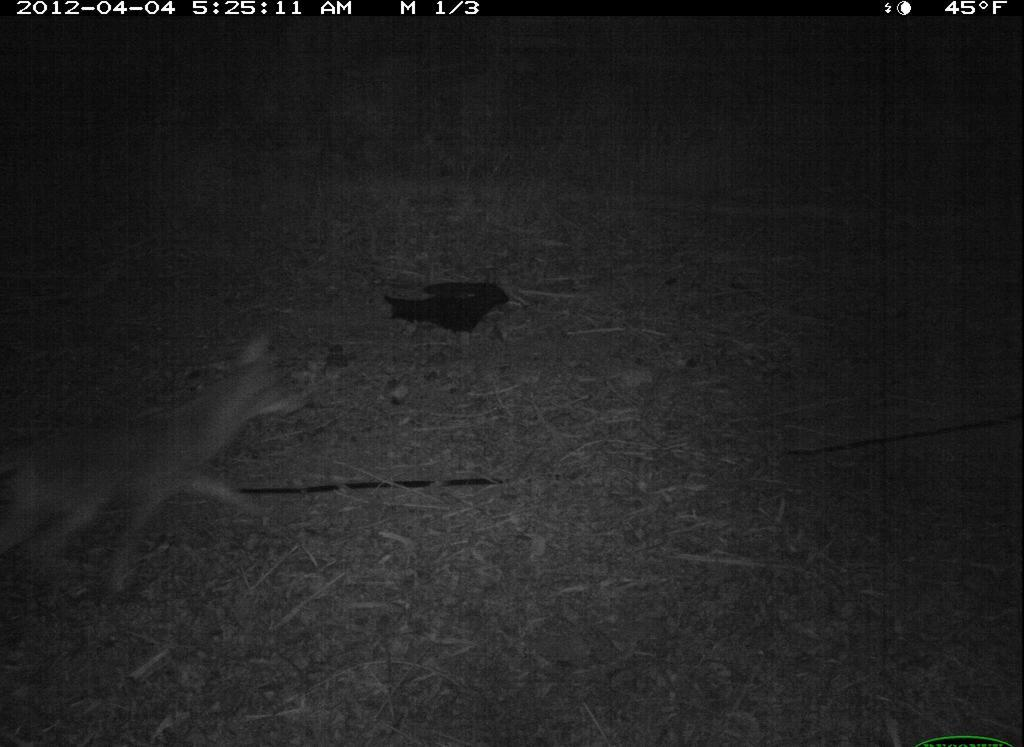coyote: (9, 324, 310, 614)
